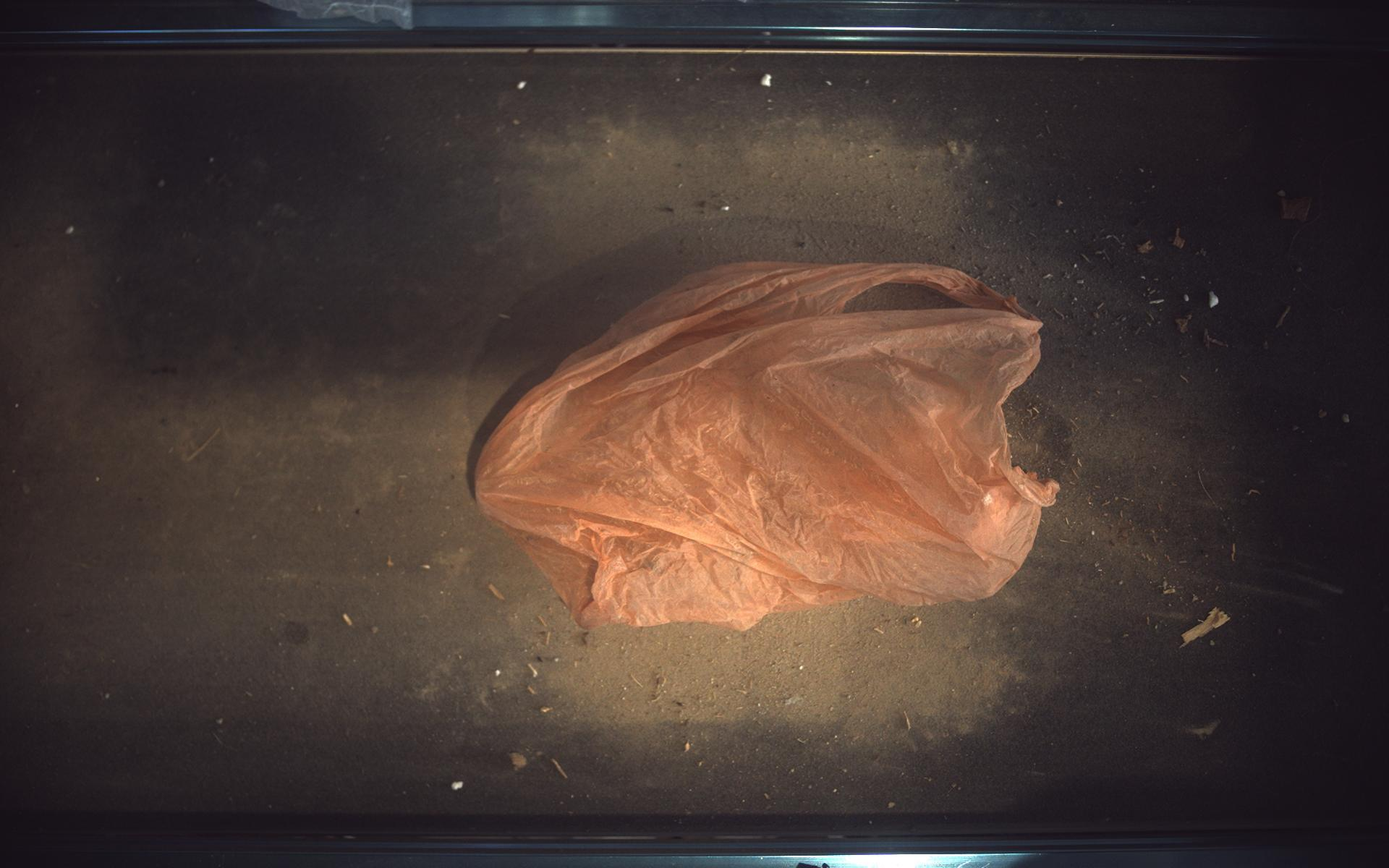general_w: (476, 262, 1061, 630)
